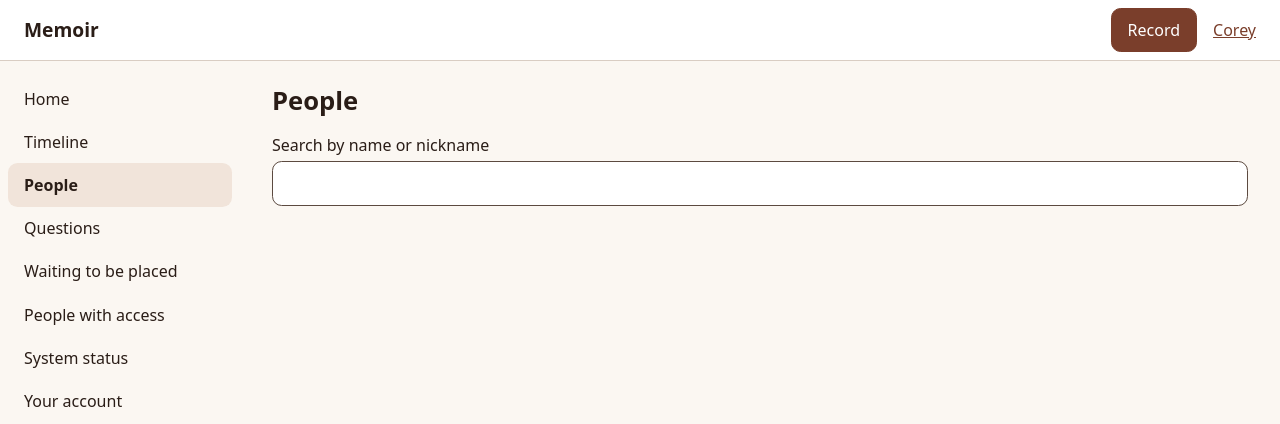
Test case: the header's Record starts recording on a wide screen
Step 1. Click the link "Record" → (1154, 30), box [1111,8,1197,52]
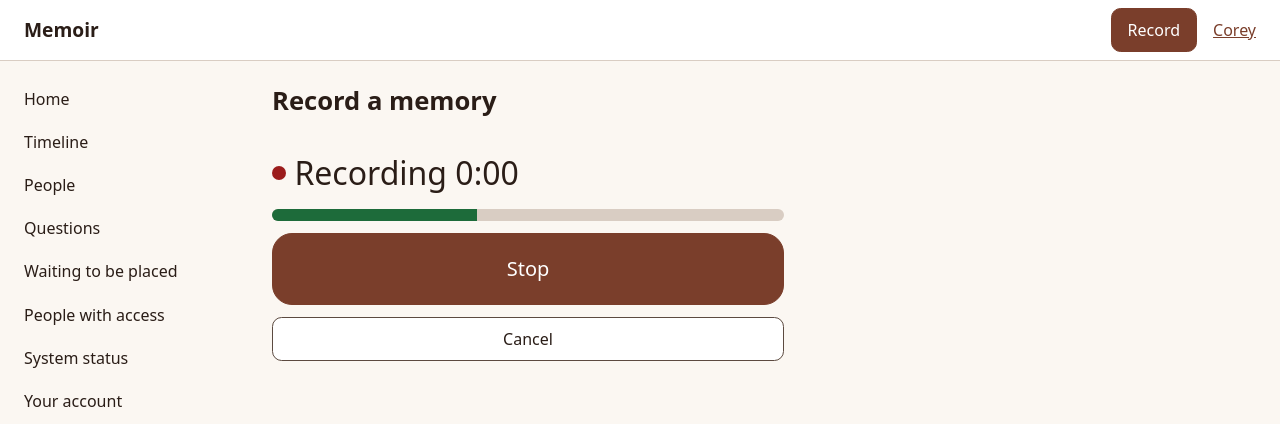
Check: the button "Stop" is shown, box [272,233,784,305]
